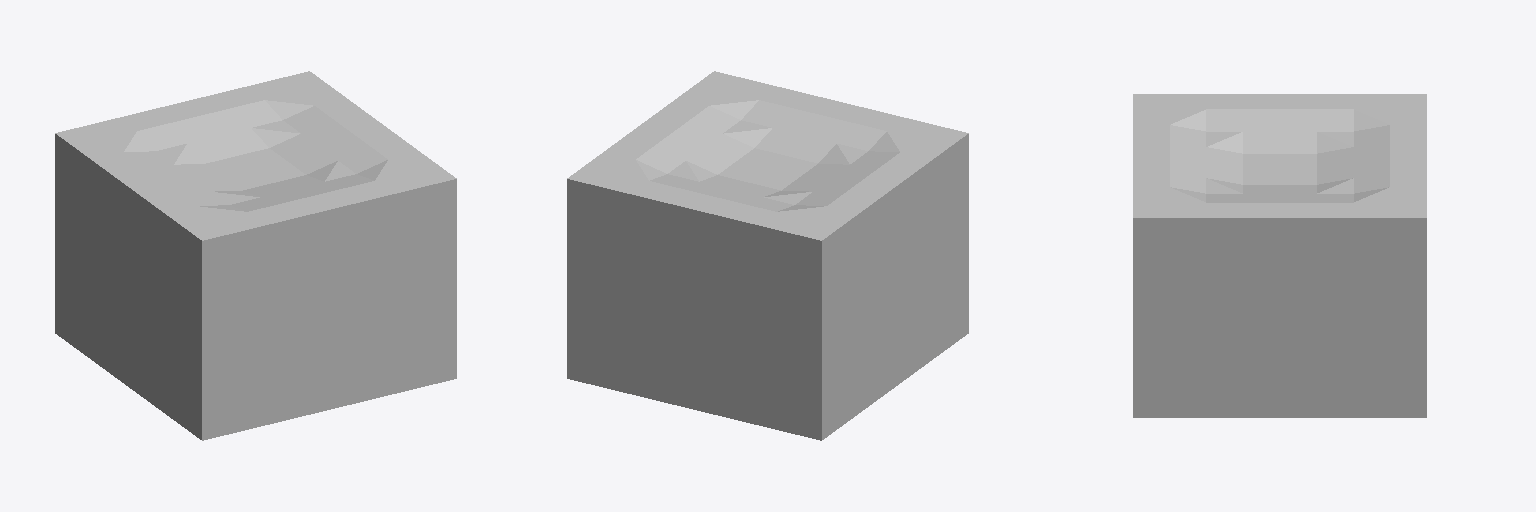
The model's file is chaosaltar.obj.
3 views of the same model, side by side, from view 1: azimuth 30°, elevation 25°; view 2: azimuth 150°, elevation 25°; view 3: azimuth 270°, elevation 25° (orthographic).
Visible parts, largest first — view 1: Cube_Cube.004; view 2: Cube_Cube.004; view 3: Cube_Cube.004.
Part boxes in pixels (left/top/right/bottom): Cube_Cube.004: left=55, top=71, right=456, bottom=440; Cube_Cube.004: left=567, top=71, right=968, bottom=440; Cube_Cube.004: left=1133, top=94, right=1426, bottom=417.
Bounding box in the file's own units: 1 × 0.75 × 1.